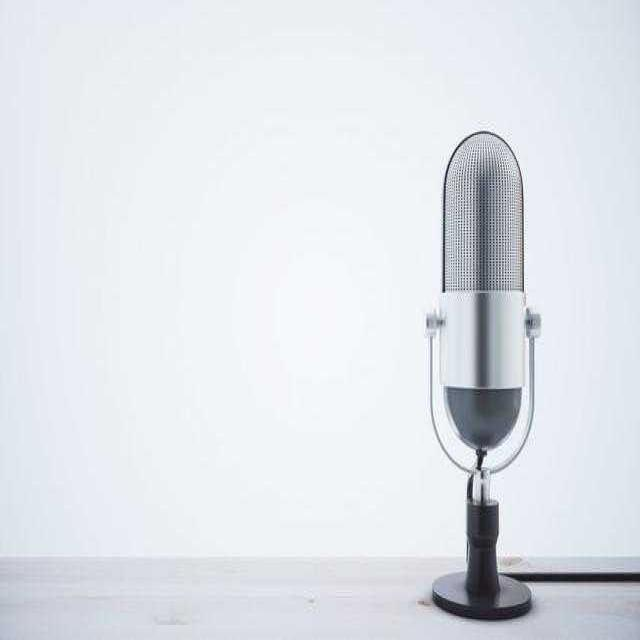microphone: (442, 136, 524, 452)
